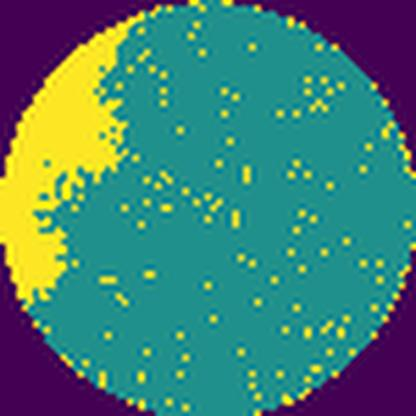Edge-Loc: (0, 15, 146, 304)
